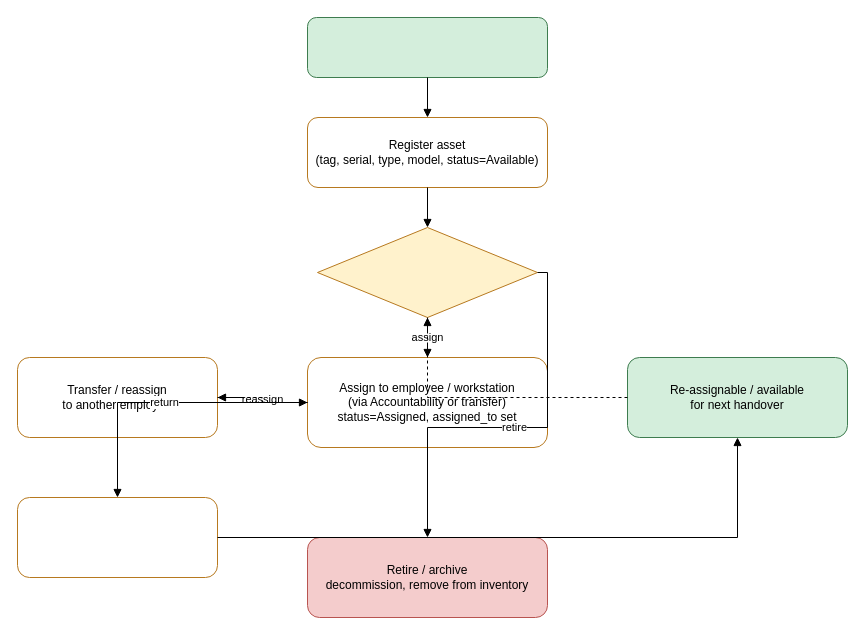
This 865x635 diagram has some shape labels left out. The shapes that lost their labels are listed below. From the top down, each one's centre as x and y in pixels, then its label:
pixel 427 47: Asset acquired / received
pixel 427 272: Assign or retire?
pixel 117 537: Return / unlink status=Available
